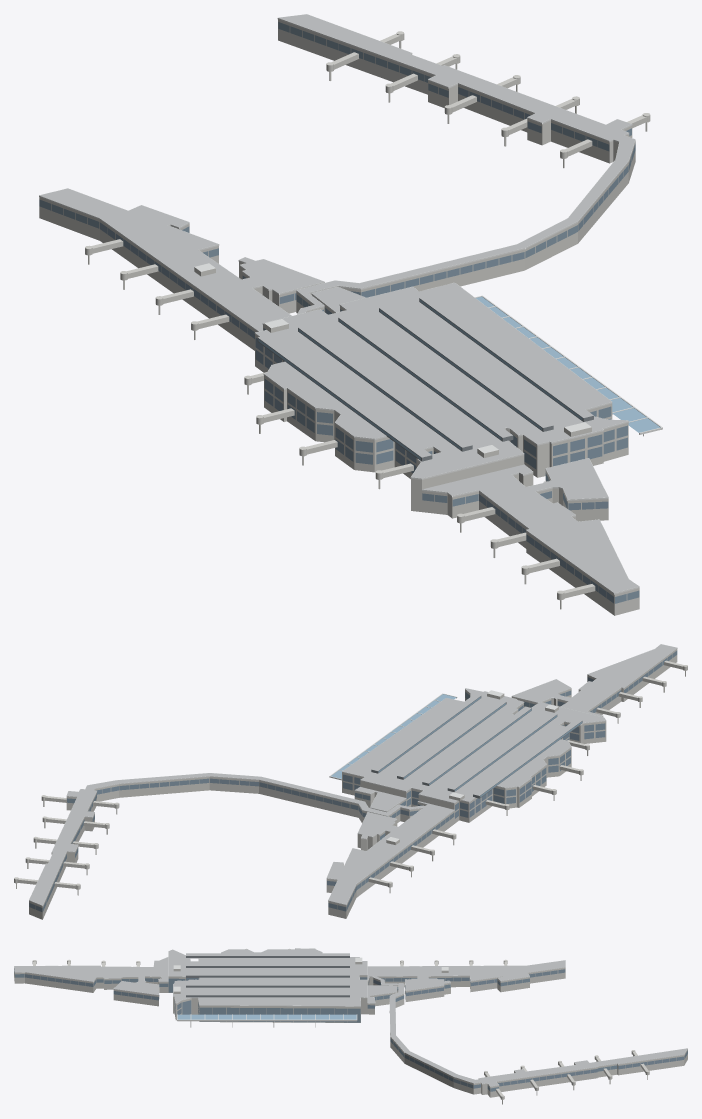
File: london-heathrow-terminal-4.glb
3 renders of one model, top to bottom at view 1: azimuth 30°, elevation 25°; view 2: azimuth 150°, elevation 25°; view 3: azimuth 270°, elevation 25°, orthographic. The views are drawn at different scales.
Visible parts, largest first — view 1: Heathrow Terminal 4; view 2: Heathrow Terminal 4; view 3: Heathrow Terminal 4.
Part boxes in pixels (x1,y1,x2,y2): Heathrow Terminal 4: (39, 14, 662, 615); Heathrow Terminal 4: (14, 644, 687, 919); Heathrow Terminal 4: (14, 948, 687, 1104).
Size of the model in its own units: 405 by 24.5 by 779.
